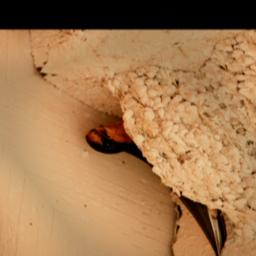Swallow: (77, 106, 256, 256)
